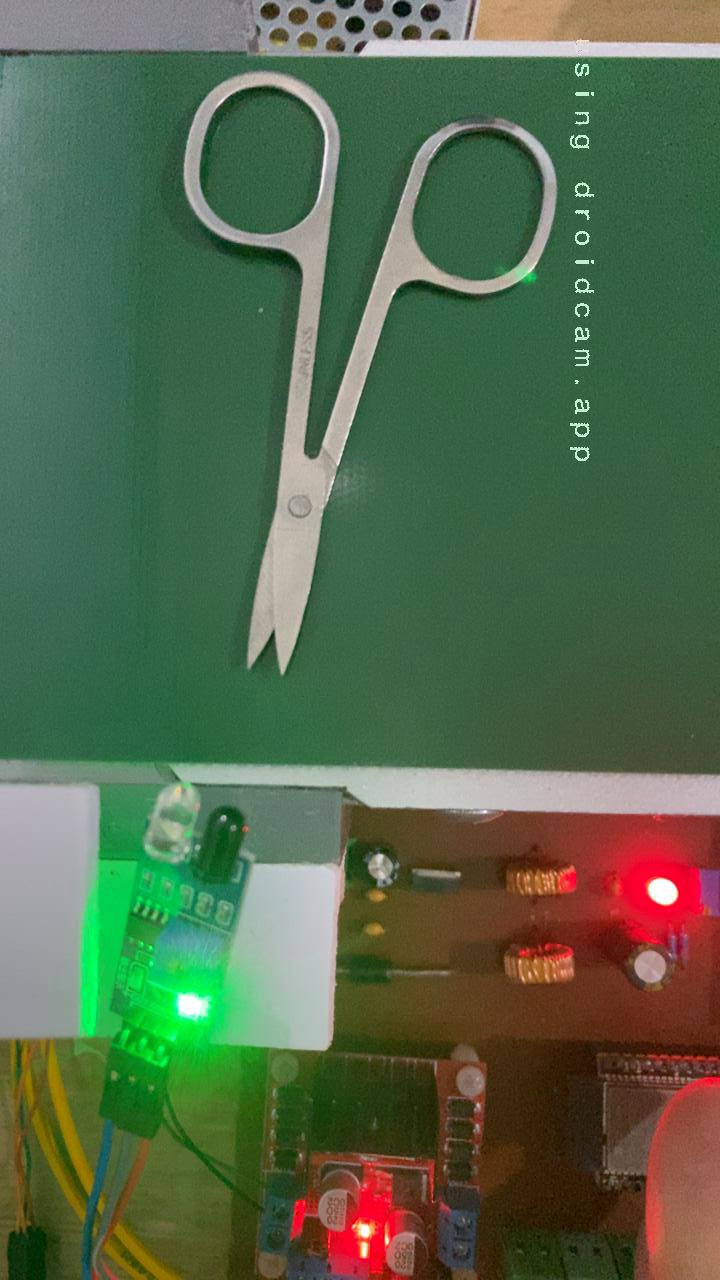scissor: (177, 64, 566, 680)
